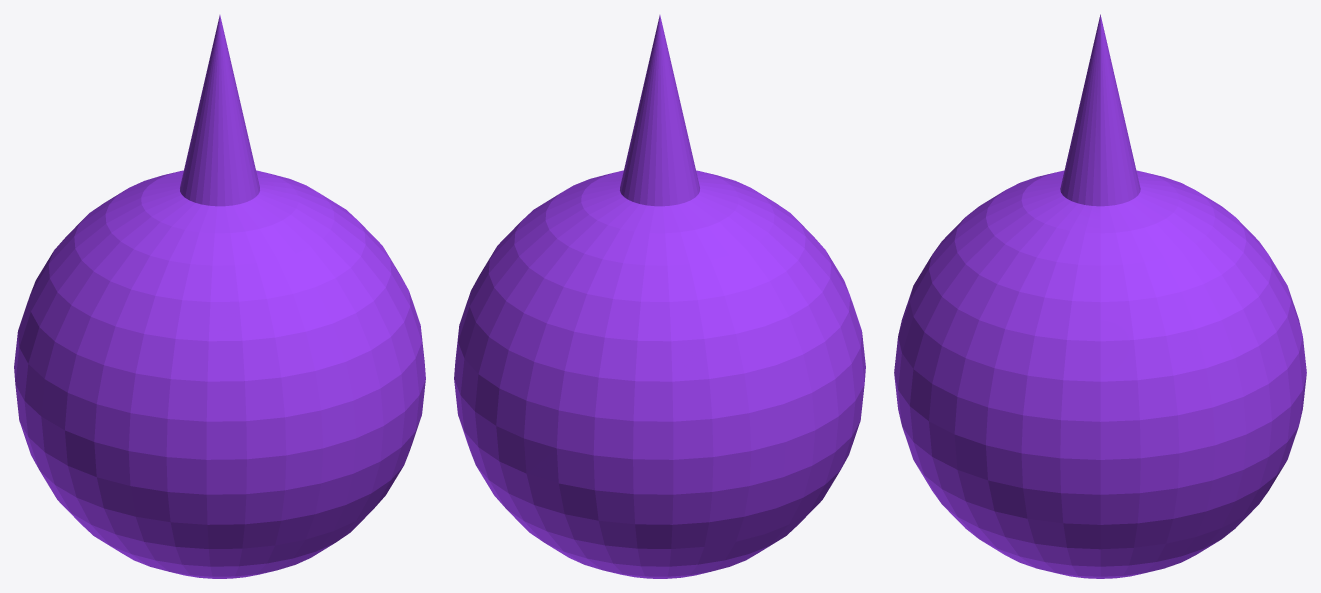
Rendered from fireBorn.obj.
The picture shows the model from 3 angles, left to right: view 1: azimuth 30°, elevation 25°; view 2: azimuth 150°, elevation 25°; view 3: azimuth 270°, elevation 25°; orthographic projection.
Visible parts, largest first — view 1: 球; view 2: 球; view 3: 球.
Boxes of the visible parts, x1,y1,x2,y2 form: 球: [14, 15, 425, 578]; 球: [454, 15, 865, 578]; 球: [894, 14, 1306, 578].
Bounding box in the file's own units: 2 × 2.92 × 2.
1 material, 1 textured.
